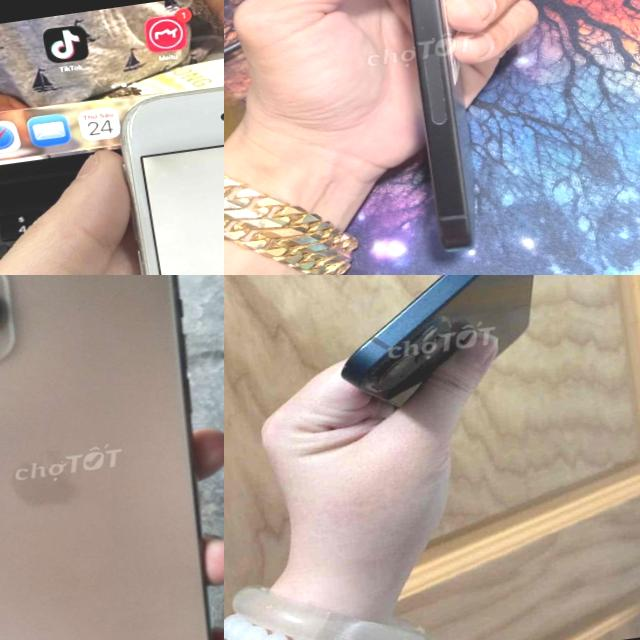scratch: (412, 21, 436, 48)
